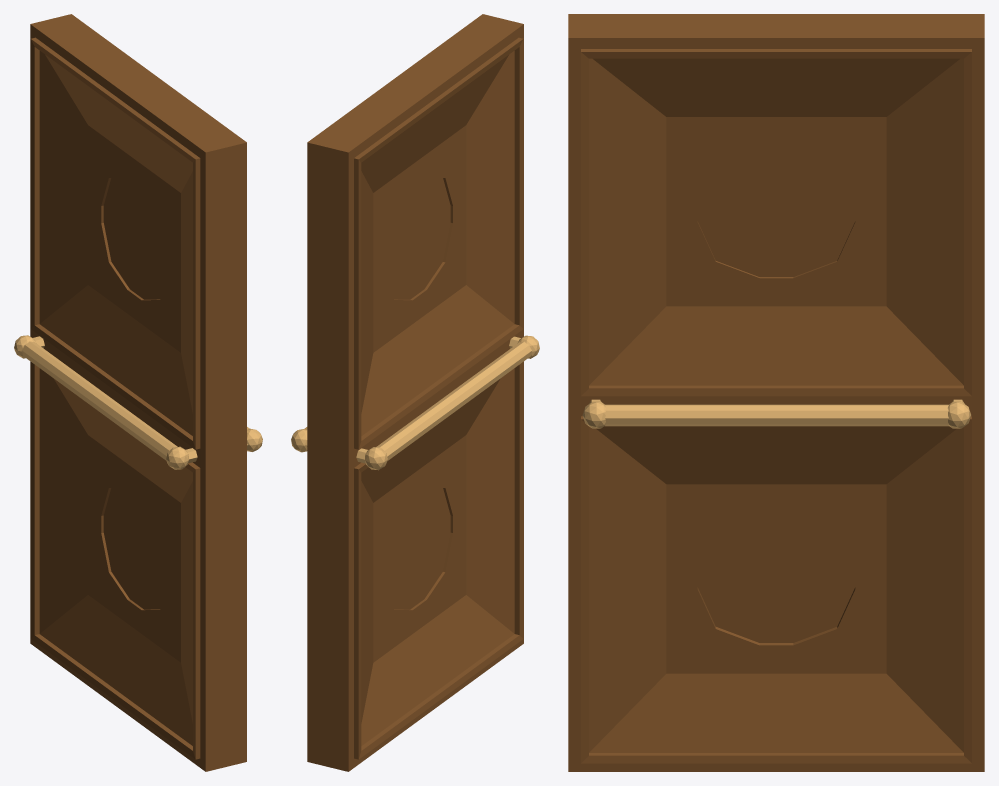
File: Puelta.fbx
3 views of the same model, side by side, from view 1: azimuth 30°, elevation 25°; view 2: azimuth 150°, elevation 25°; view 3: azimuth 270°, elevation 25° (orthographic). The views are drawn at different scales.
Parts seen in each view (by area): view 1: Cube.009; view 2: Cube.009; view 3: Cube.009.
Boxes of the visible parts, bbox=[...] form: Cube.009: bbox=[14, 14, 262, 771]; Cube.009: bbox=[291, 14, 539, 771]; Cube.009: bbox=[568, 14, 984, 771].
Bounding box in the file's own units: 47.22 × 300 × 154.
